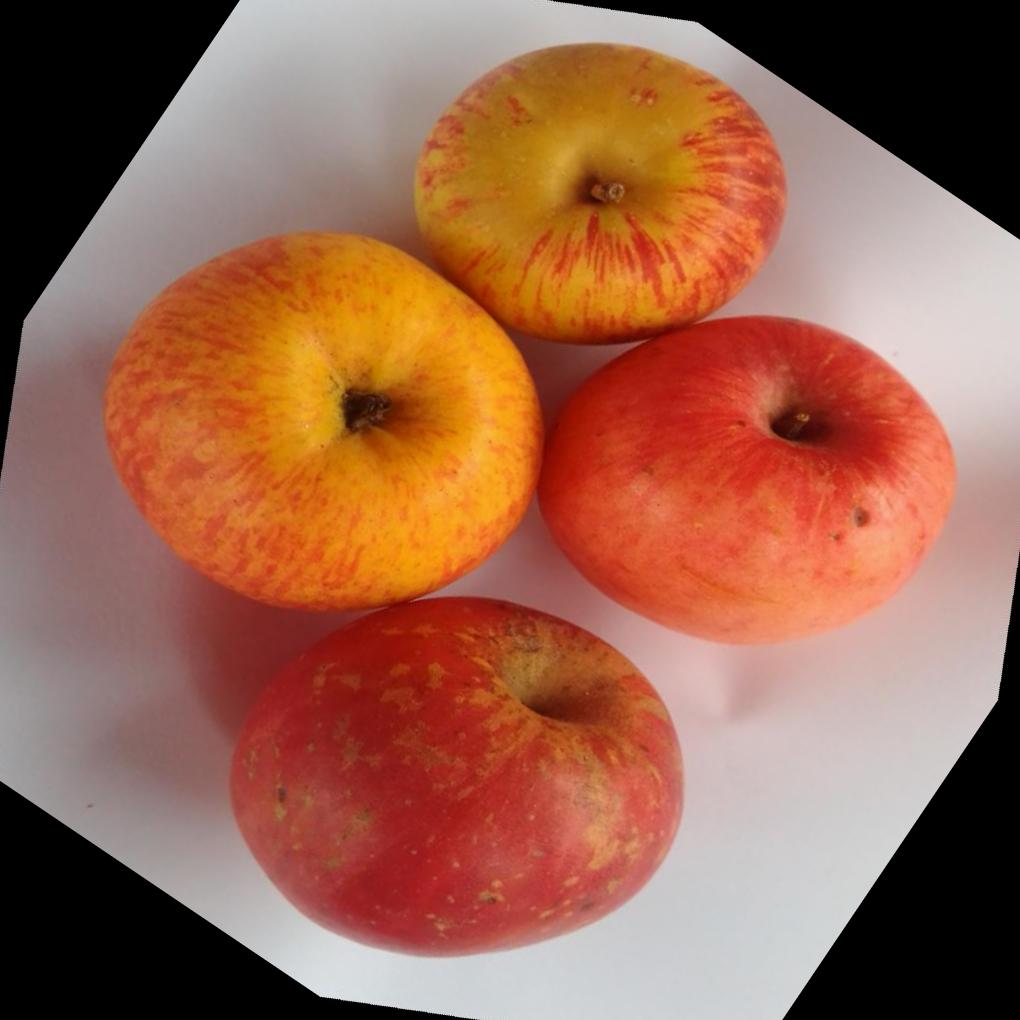FreshGuava: (105, 41, 957, 959)
